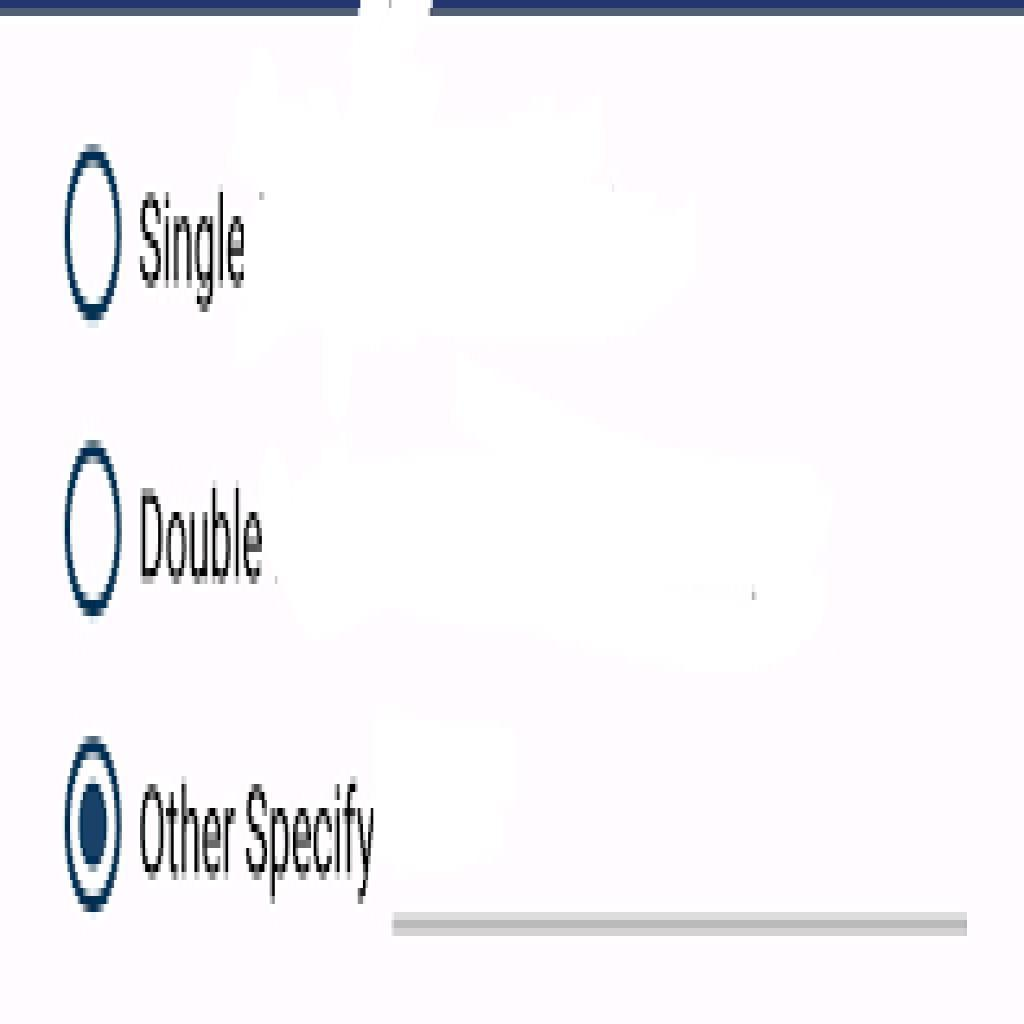label: (136, 776, 382, 907), (131, 186, 252, 313), (137, 477, 265, 594)
radio: (63, 734, 127, 918), (63, 436, 126, 622), (64, 143, 125, 324)
